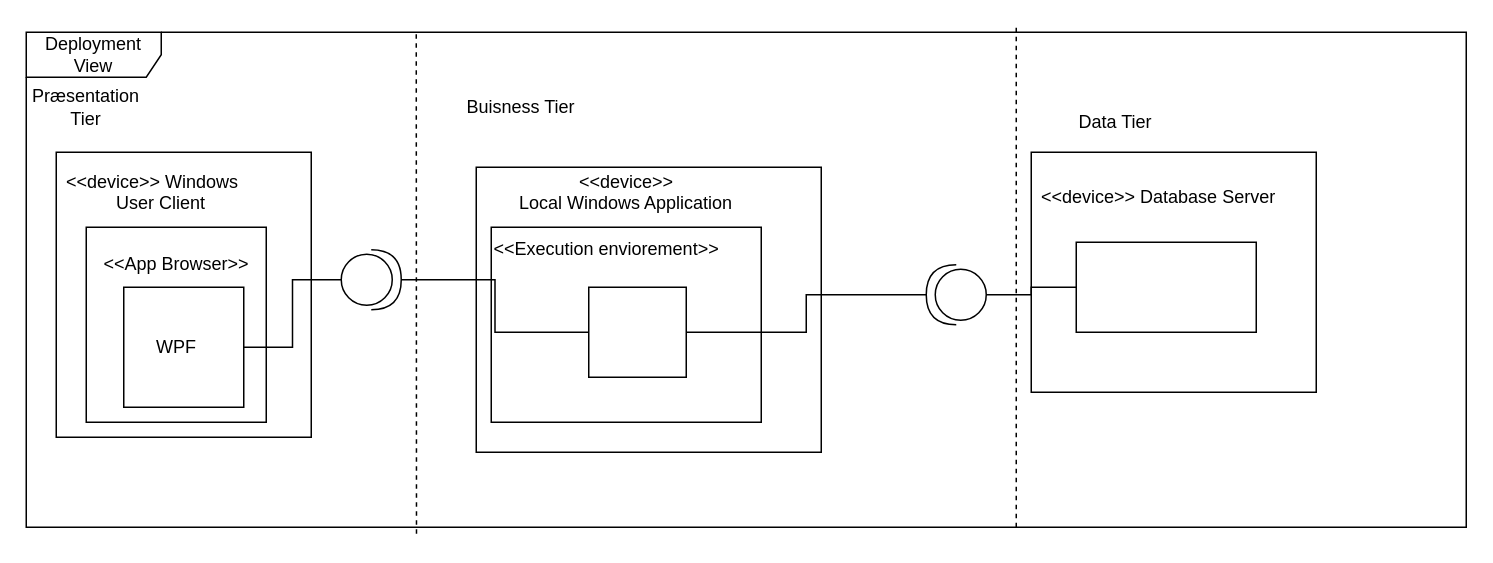
Image size: 1493x563. Some labels were removed from this diagram. The centre of each missing label's shape, as x and y in pixels:
CarnGo.sln C#: the point at 636,331
SQL DB: the point at 1165,286
